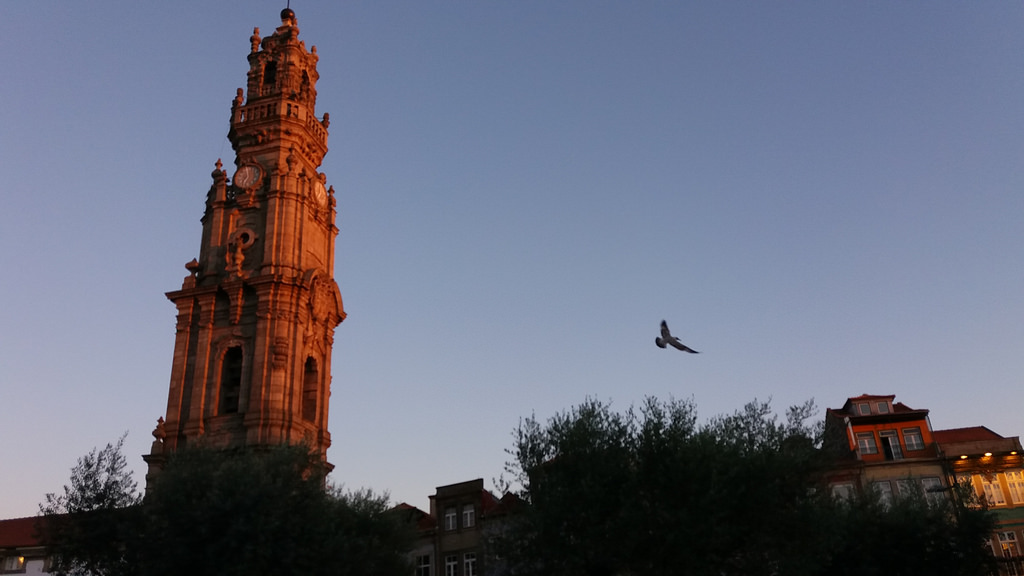clerigos: (143, 0, 346, 514)
